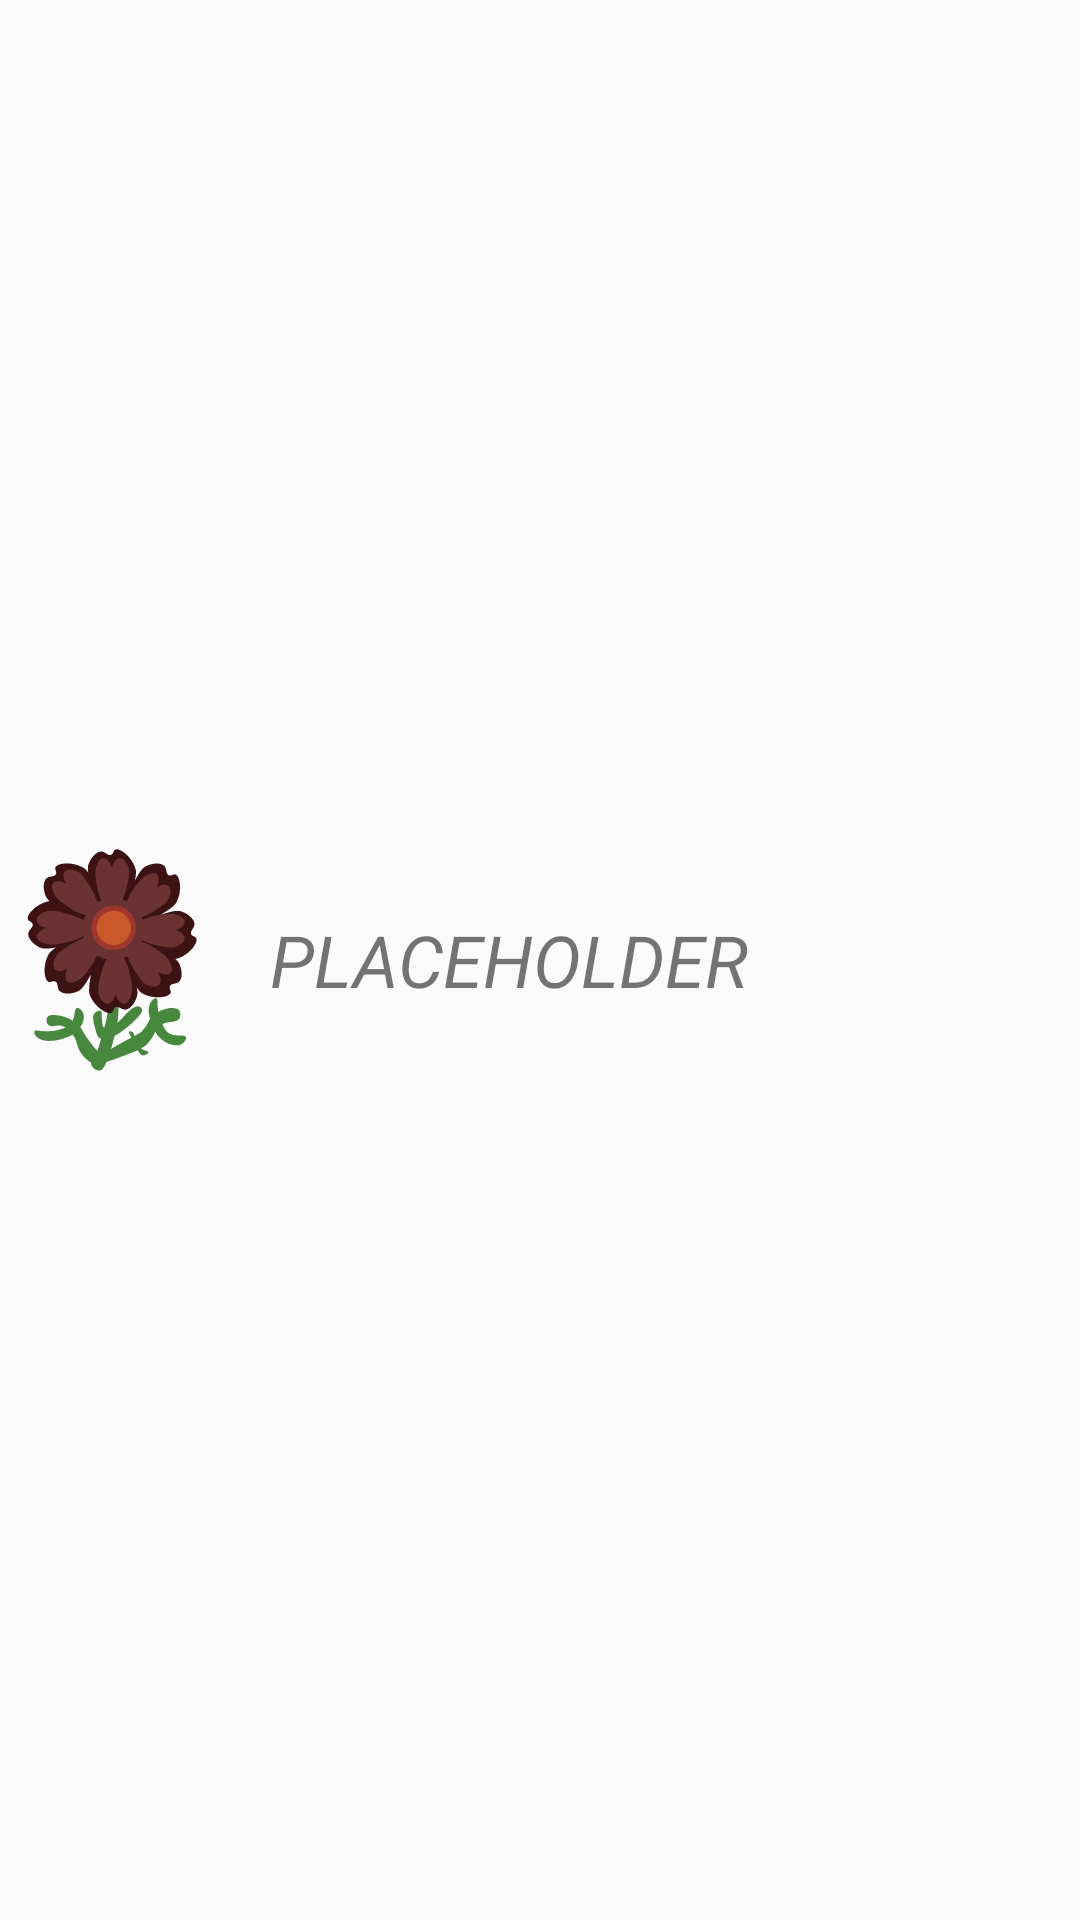

Where to tap for icons on this 1080x1920 app screen, as point (x, y):
cosmo: point (112, 960)
